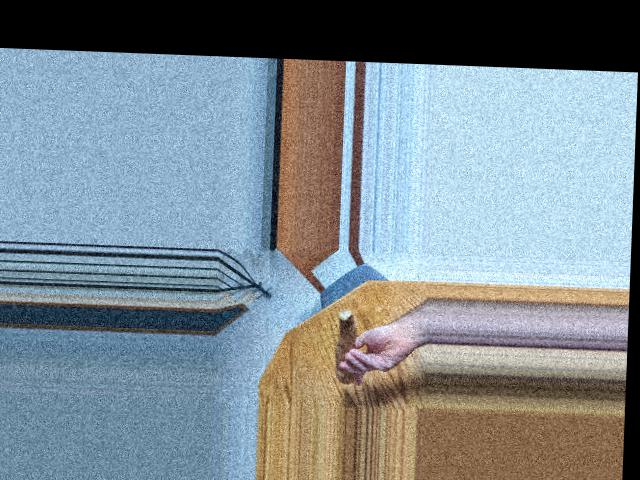sweet_potato: (328, 314, 362, 379)
